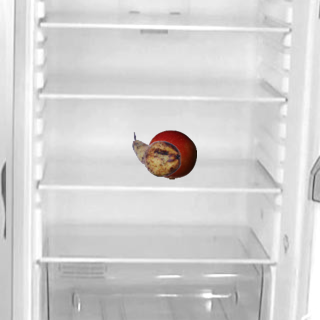Apple Braeburn: (146, 129, 196, 179)
Pear Abate: (131, 129, 181, 179)
